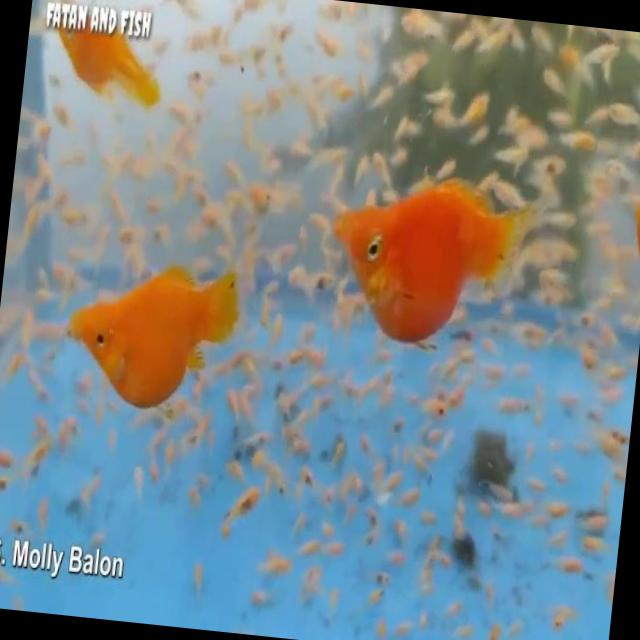PlatyFish: (312, 162, 537, 362), (54, 241, 251, 421)
